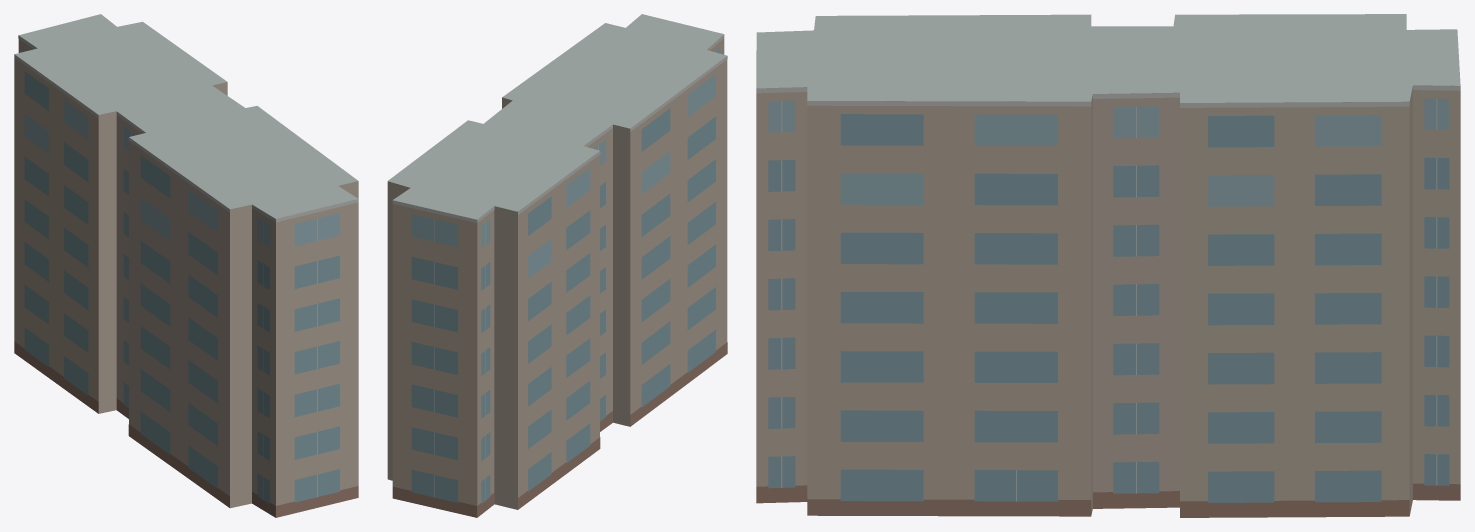
Rendered from survey-upis-32571992.glb.
The picture shows the model from 3 angles, left to right: view 1: azimuth 30°, elevation 25°; view 2: azimuth 150°, elevation 25°; view 3: azimuth 270°, elevation 25°; orthographic projection. The views are drawn at different scales.
Parts seen in each view (by area): view 1: survey-upis-32571992.tmp; view 2: survey-upis-32571992.tmp; view 3: survey-upis-32571992.tmp.
Boxes of the visible parts, left/top/right/bottom form: survey-upis-32571992.tmp: left=14, top=14, right=358, bottom=517; survey-upis-32571992.tmp: left=387, top=14, right=727, bottom=517; survey-upis-32571992.tmp: left=756, top=14, right=1460, bottom=517.
Bounding box in the file's own units: 9.54 × 20.7 × 31.86.
